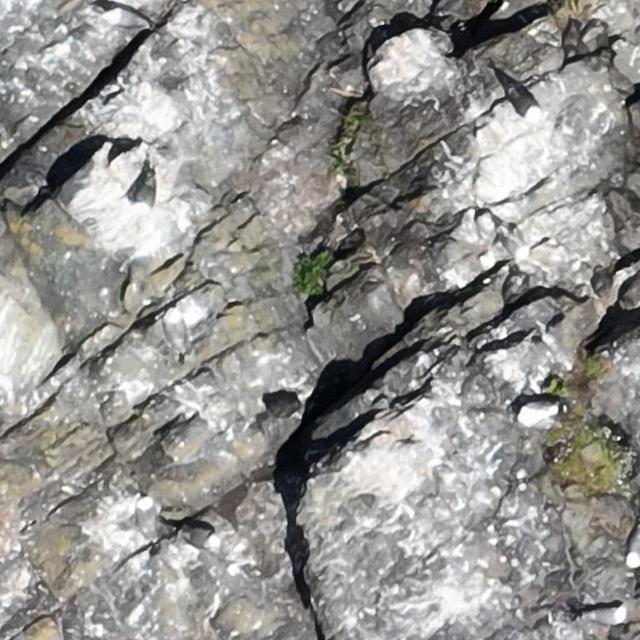umineko: (131, 497, 160, 550), (520, 396, 567, 428), (163, 306, 190, 360), (498, 225, 529, 261), (181, 523, 220, 551), (510, 90, 539, 118), (583, 608, 625, 626), (134, 177, 154, 212), (111, 11, 144, 29), (628, 528, 639, 563)
